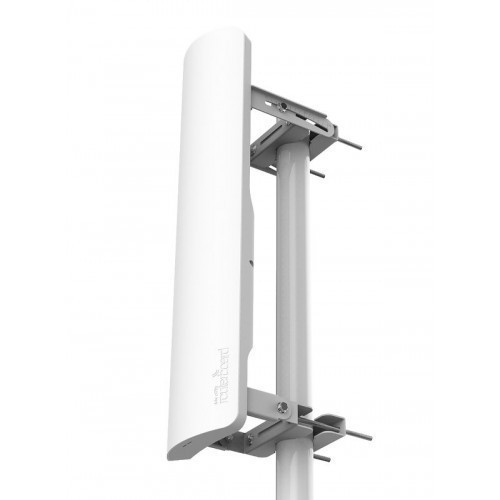sa: (162, 19, 292, 477)
